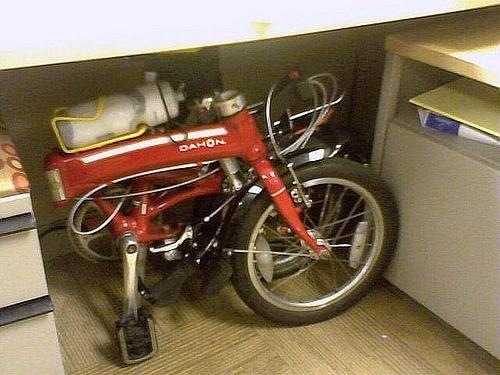bicycle: (44, 70, 399, 364)
